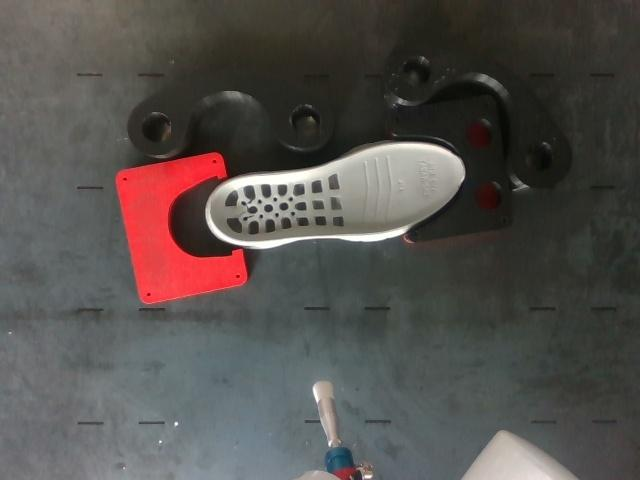shoes: (210, 143, 464, 242)
